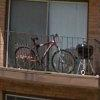Bicycle: (11, 31, 99, 78)
